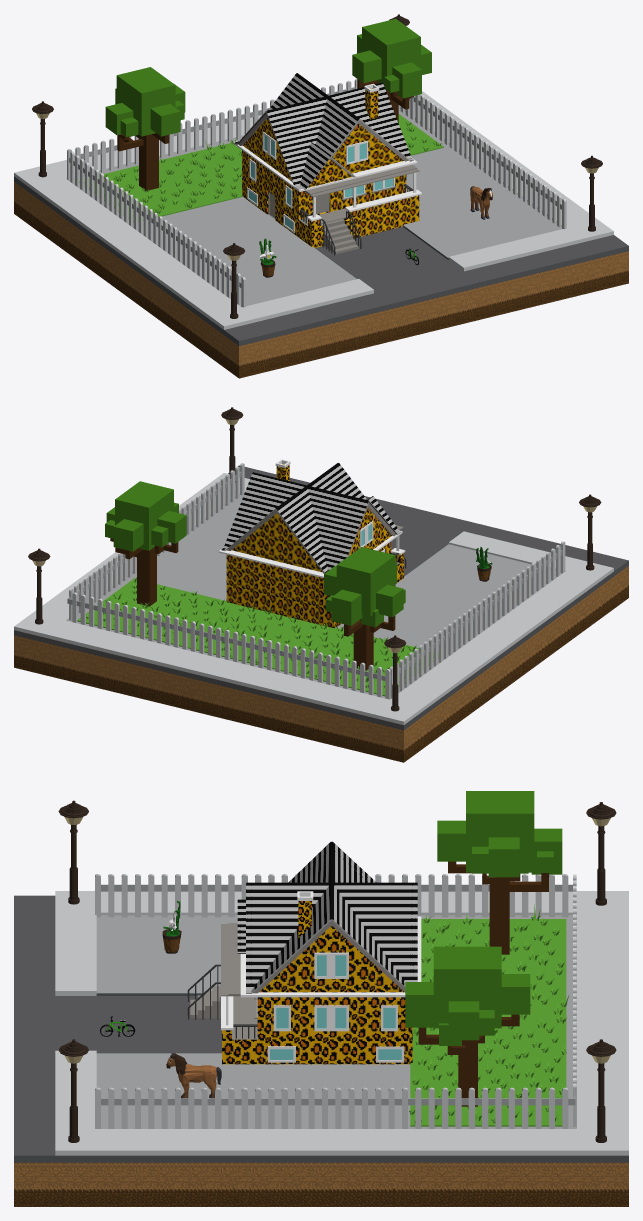
3 renders of one model, top to bottom at view 1: azimuth 30°, elevation 25°; view 2: azimuth 150°, elevation 25°; view 3: azimuth 270°, elevation 25°, orthographic. The views are drawn at different scales.
Parts seen in each view (by area): view 1: Cube.004, Cube.637, ANIMAL_CABALLO; view 2: Cube.004, Cube.637; view 3: Cube.004, Cube.637, ANIMAL_CABALLO, OBJRANDOM_MONJA BLANCA.
Part boxes in pixels (x1,y1,x2,y2): Cube.004: [14, 14, 628, 378]; Cube.637: [233, 73, 421, 255]; ANIMAL_CABALLO: [470, 186, 492, 219]; Cube.004: [14, 407, 628, 762]; Cube.637: [218, 459, 406, 627]; Cube.004: [14, 791, 628, 1206]; Cube.637: [187, 841, 421, 1064]; ANIMAL_CABALLO: [166, 1053, 221, 1098]; OBJRANDOM_MONJA BLANCA: [162, 901, 181, 953].
Bounding box in the file's own units: 4000 × 1551 × 4000.
34 materials, 5 textured.
